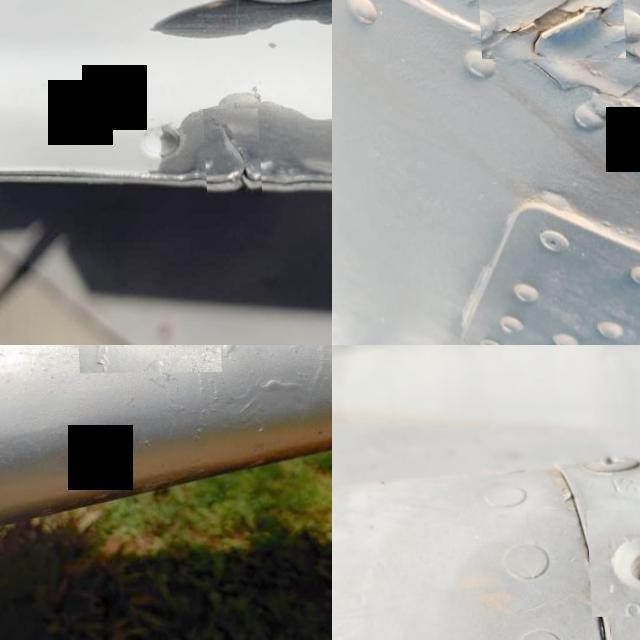Crack: (476, 0, 622, 59), (200, 110, 257, 197)
Dent: (72, 345, 218, 373)
Missing_Fastener: (584, 510, 640, 617)
